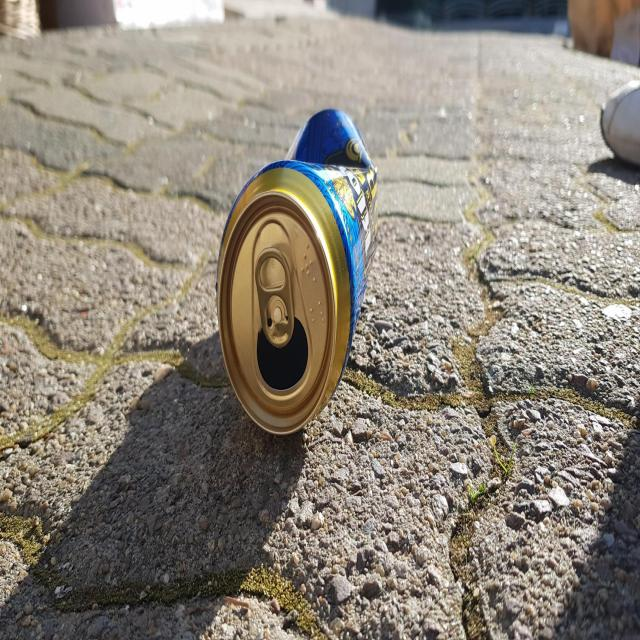can: (216, 107, 378, 434)
